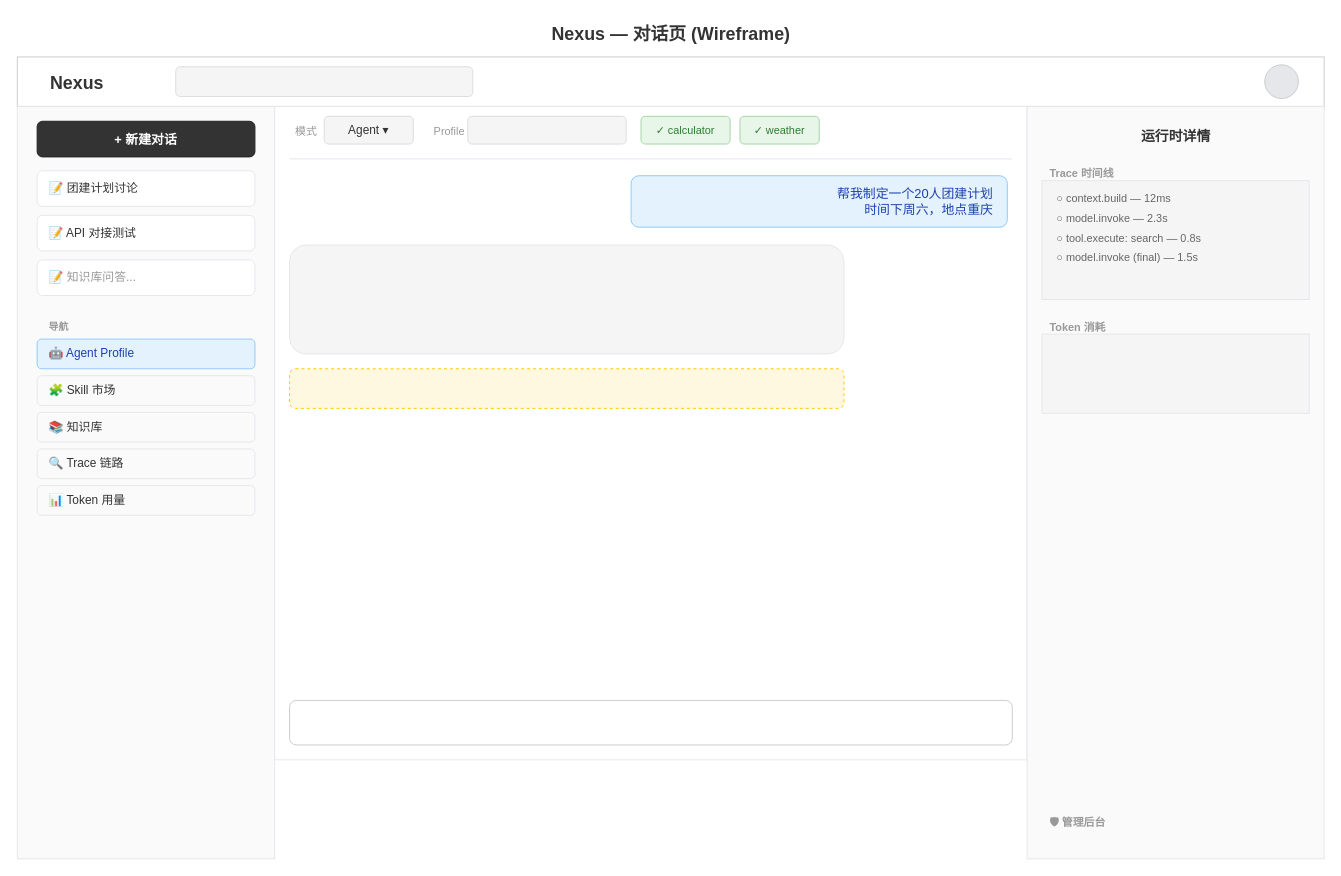
The diagram is 1341 pixels wide and 876 high, and some of its shapes have lost their labels. Each missing label, with the centre of its shape:
General Assistant ▾: (x=546, y=129)
Prompt: 1,247 | Completion: 856 | Total: 2,103: (x=1175, y=373)
好的，我来为你制定重庆20人团建计划： 上午：集合破冰 + 分组 下午：轻户外拓展 / 密室协作 晚上：复盘颁奖 + 聚餐 预算按人均 300-500 元预估。: (x=566, y=299)
搜索...: (x=324, y=81)
用户: (x=1281, y=81)
输入消息...: (x=650, y=722)
🔧 search — "重庆20人团建活动推荐" → 成功 (342 字符): (x=566, y=388)
